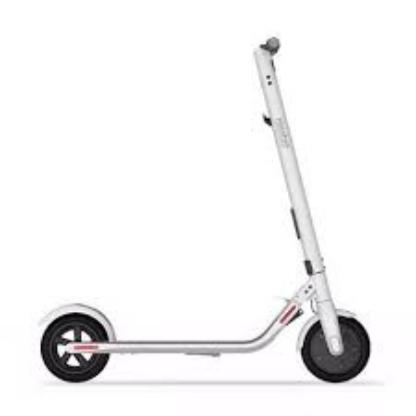bike: (17, 36, 372, 386)
car: (31, 36, 372, 385)
